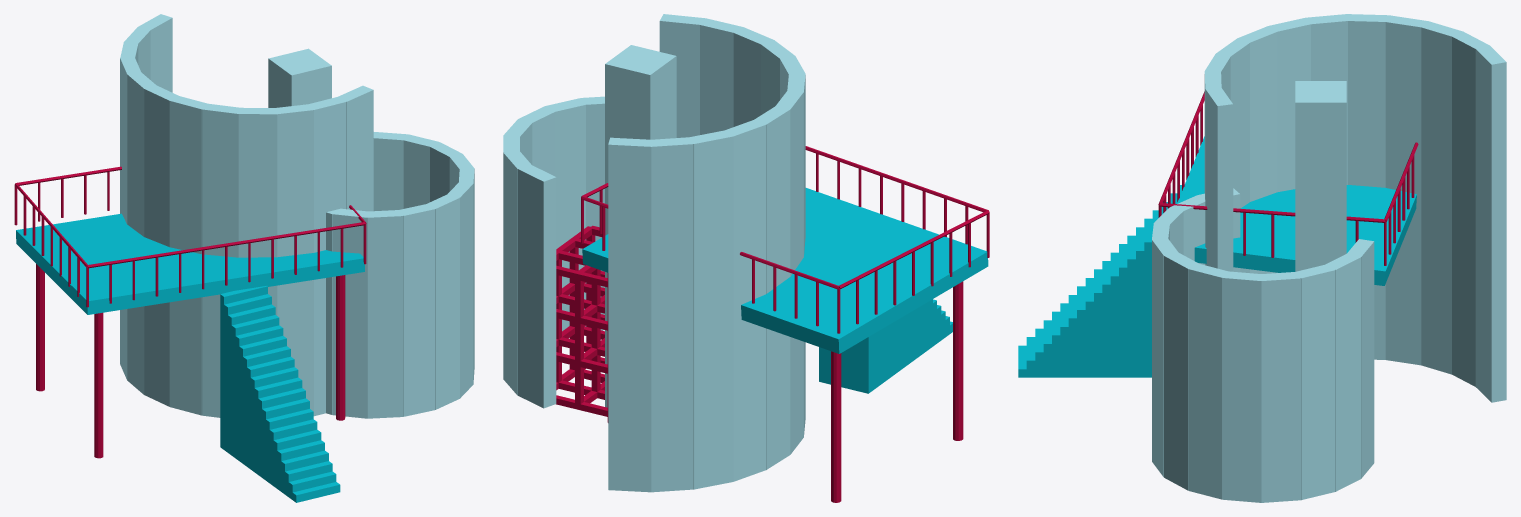
File: folie_tag_007.glb
3 views of the same model, side by side, from view 1: azimuth 30°, elevation 25°; view 2: azimuth 150°, elevation 25°; view 3: azimuth 270°, elevation 25° (orthographic). The views are drawn at different scales.
Parts seen in each view (by area): view 1: folie_tag_007_01_curve, folie_tag_007_03_curve, folie_tag_007_stairs, folie_tag_007_00_plate, folie_tag_007_line, folie_tag_007_core; view 2: folie_tag_007_01_curve, folie_tag_007_03_curve, folie_tag_007_00_plate, folie_tag_007_line, folie_tag_007_02_cage, folie_tag_007_core, folie_tag_007_stairs; view 3: folie_tag_007_01_curve, folie_tag_007_03_curve, folie_tag_007_stairs, folie_tag_007_core, folie_tag_007_00_plate, folie_tag_007_line.
Boxes of the visible parts, x1,y1,x2,y2 form: folie_tag_007_01_curve: (120,14,373,417); folie_tag_007_03_curve: (326,132,474,418); folie_tag_007_stairs: (220,286,340,502); folie_tag_007_00_plate: (16,213,364,314); folie_tag_007_line: (14,166,366,458); folie_tag_007_core: (268,48,331,107); folie_tag_007_01_curve: (608,14,805,492); folie_tag_007_03_curve: (503,96,604,408); folie_tag_007_00_plate: (582,188,988,353); folie_tag_007_line: (581,146,989,502); folie_tag_007_02_cage: (556,225,607,416); folie_tag_007_core: (605,45,676,407); folie_tag_007_stairs: (819,299,952,393); folie_tag_007_01_curve: (1204,14,1506,402); folie_tag_007_03_curve: (1152,188,1374,502); folie_tag_007_stairs: (1018,185,1181,377); folie_tag_007_core: (1295,81,1346,271); folie_tag_007_00_plate: (1177,136,1416,285); folie_tag_007_line: (1158,91,1418,265).
Size of the model in its own units: 10.87 by 8.07 by 10.47.
